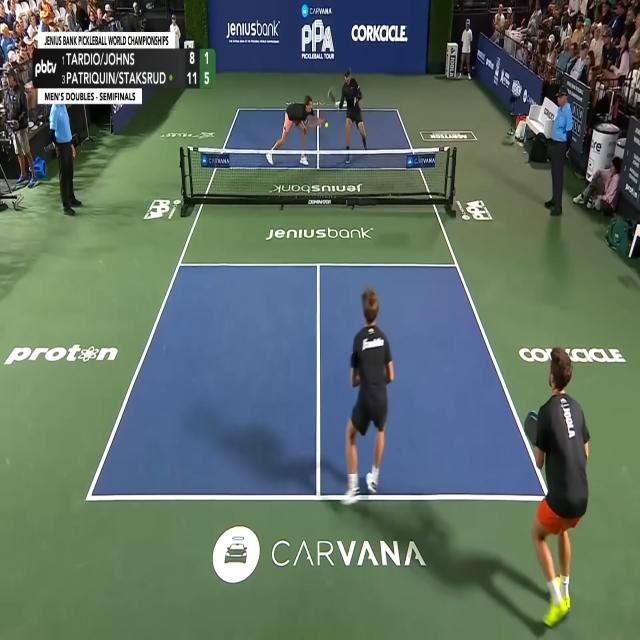ball: (324, 122, 328, 128)
